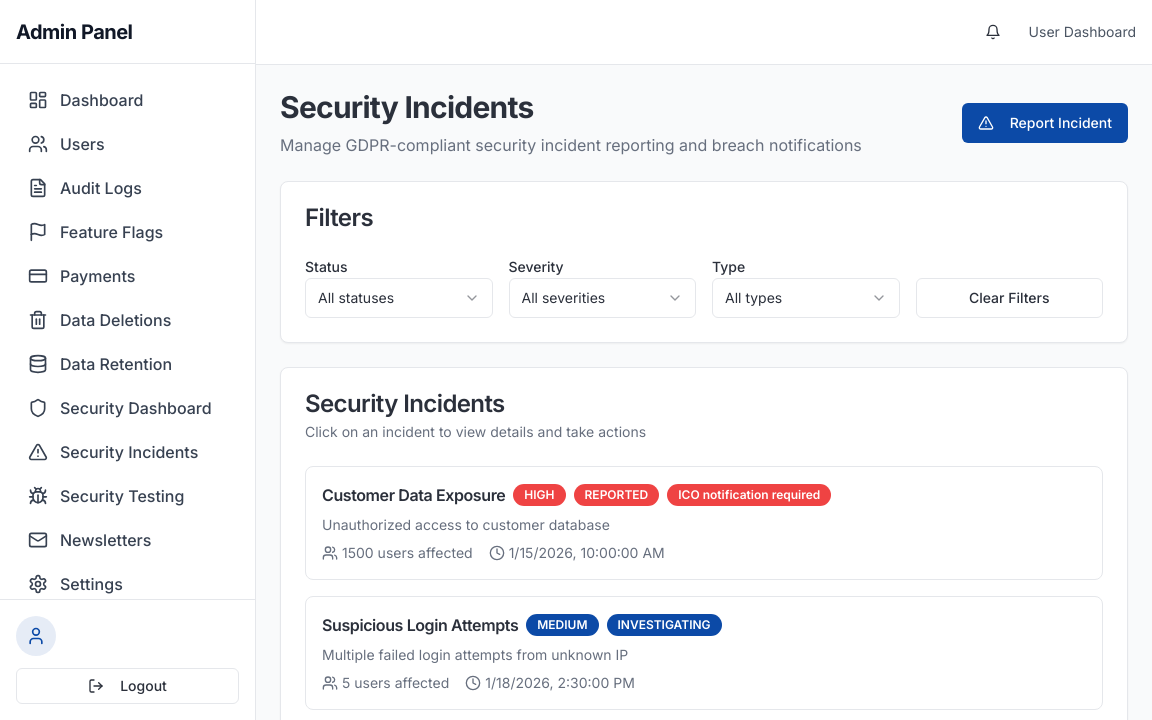
Test: AdminSecurityIncidents › Incident Details › should display full incident details in dialog
Click the heading "Customer Data Exposure". click: (414,495)
box: [322,483,505,507]
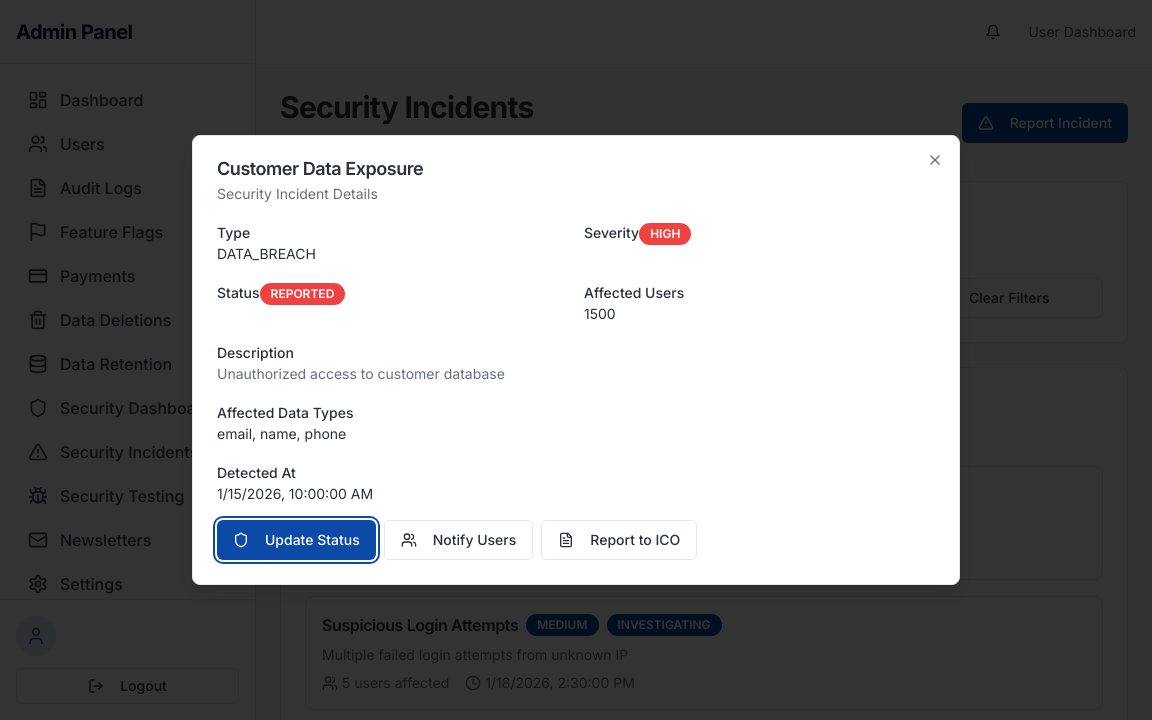
Expected: the text "Unauthorized access to customer database" below "ICO notification required" is shown, [322,516,610,533]
Expected: the text "email, name, phone" is shown, [217,425,346,442]
